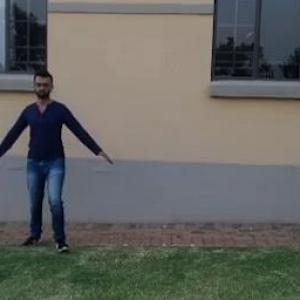land: (1, 72, 103, 243)
